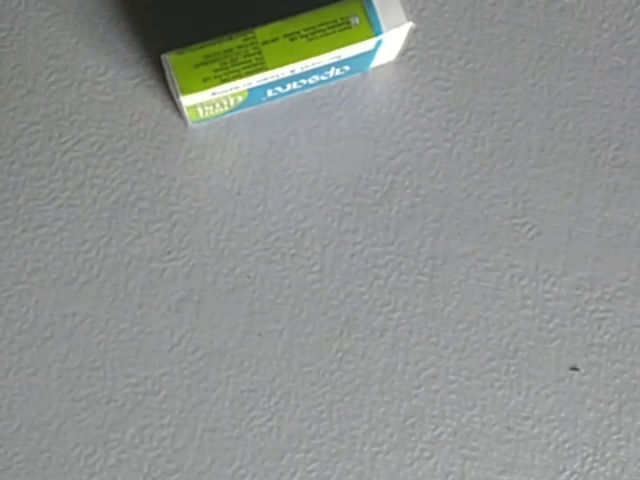Eraser: (148, 1, 422, 130)
